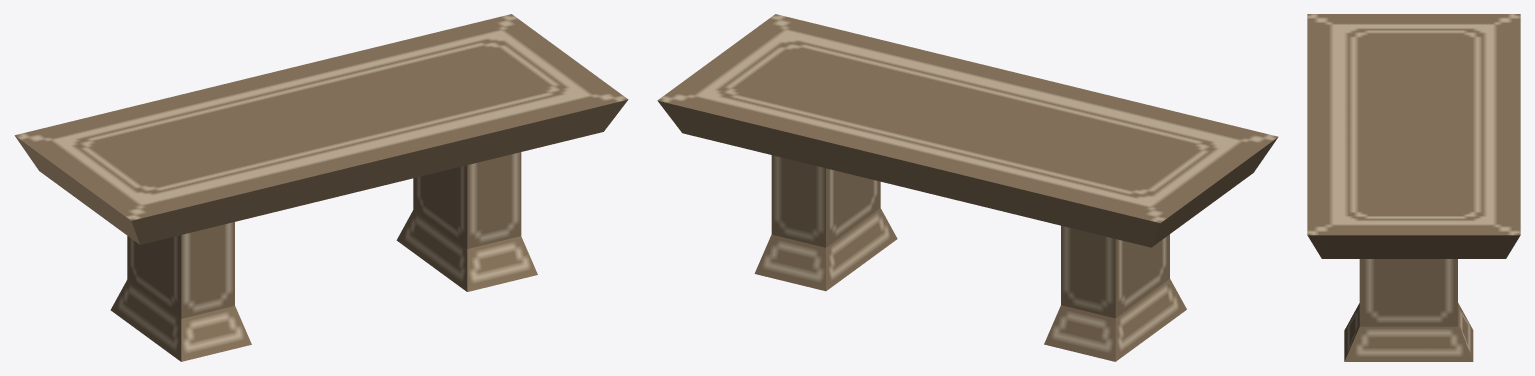
Rendered from Bench.fbx.
The picture shows the model from 3 angles, left to right: view 1: azimuth 30°, elevation 25°; view 2: azimuth 150°, elevation 25°; view 3: azimuth 270°, elevation 25°; orthographic projection. The views are drawn at different scales.
Parts seen in each view (by area): view 1: Bench; view 2: Bench; view 3: Bench.
Boxes of the visible parts, x1=… form: Bench: x1=14, y1=14, x2=628, y2=361; Bench: x1=657, y1=14, x2=1278, y2=361; Bench: x1=1307, y1=14, x2=1520, y2=361.
Bounding box in the file's own units: 1 × 0.407 × 0.3326.
Materials: 1 (1 with a texture image).
